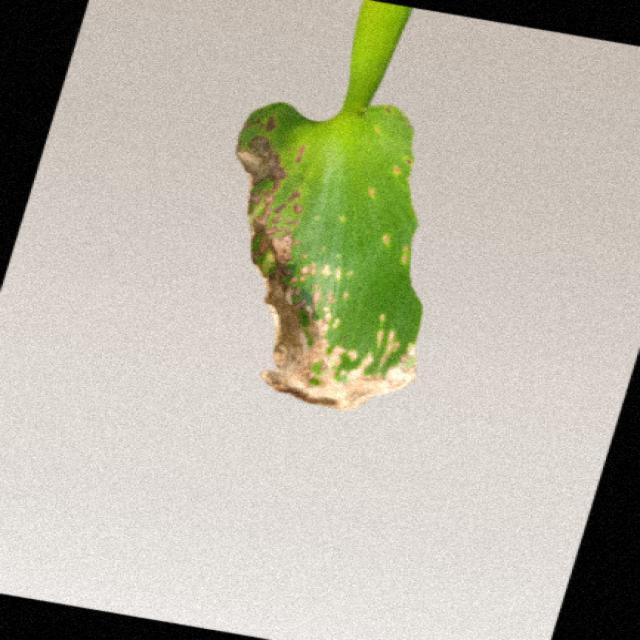daun berpenyakit bercak: (237, 0, 421, 409)
